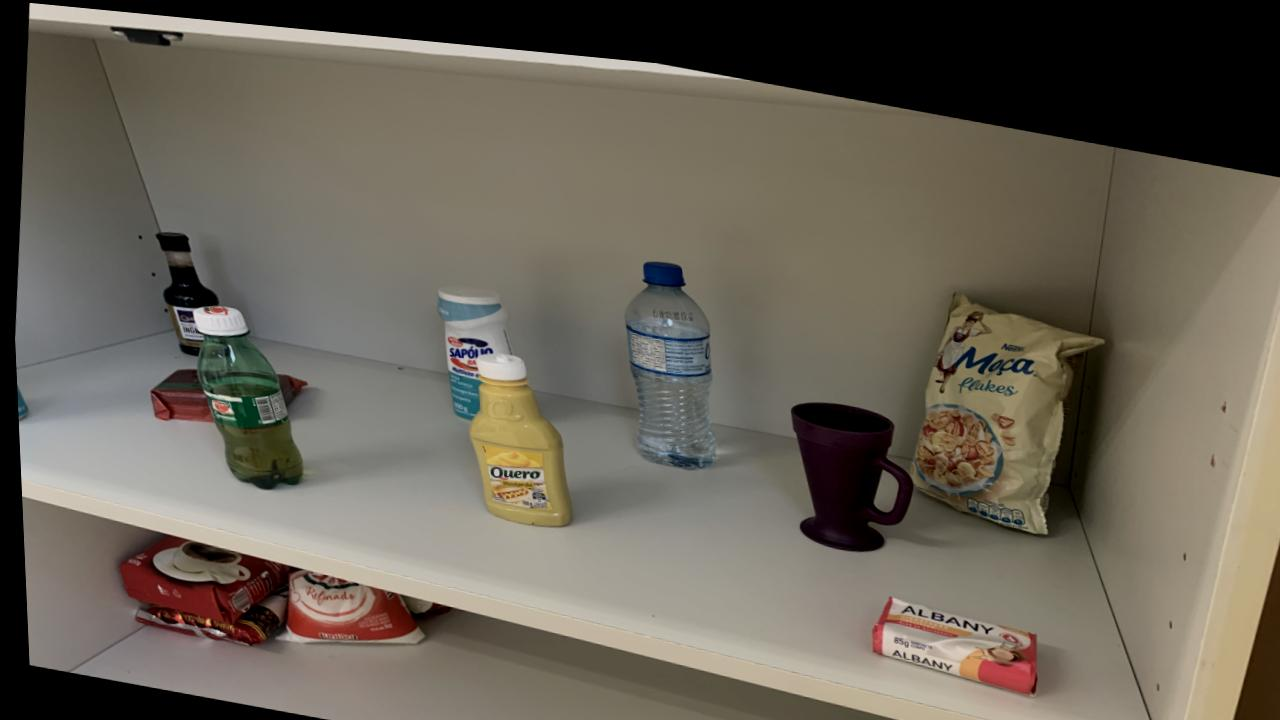Cleaner-Cleanup_Items: (434, 276, 508, 410)
English_Sauce-Pantry_Items: (153, 228, 215, 352)
Flakes-Snacks: (907, 274, 1101, 514)
Guarana-Drinks: (189, 301, 298, 484)
Guava-Snacks: (147, 365, 209, 419), (274, 370, 304, 399)
Mustard-Pantry_Items: (465, 343, 568, 516)
Soap-Cleanup_Items: (866, 579, 1032, 675)
Water_Bottle-Drinks: (622, 251, 712, 455)
